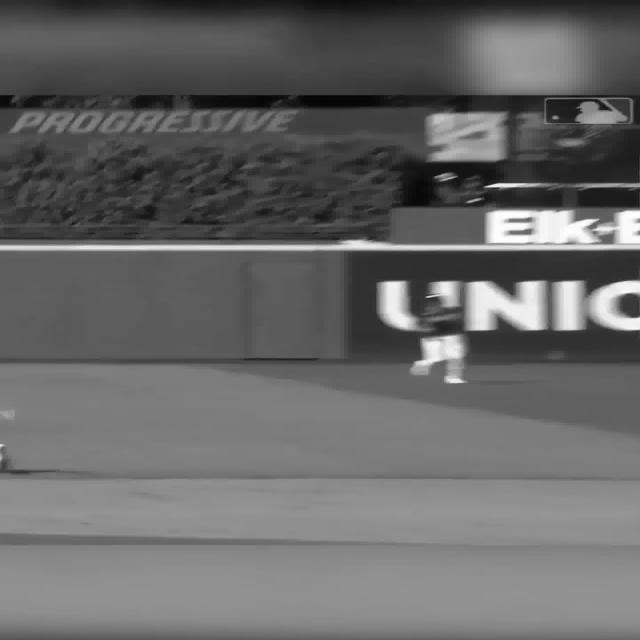shoe: (409, 361, 431, 376), (443, 376, 467, 384)
